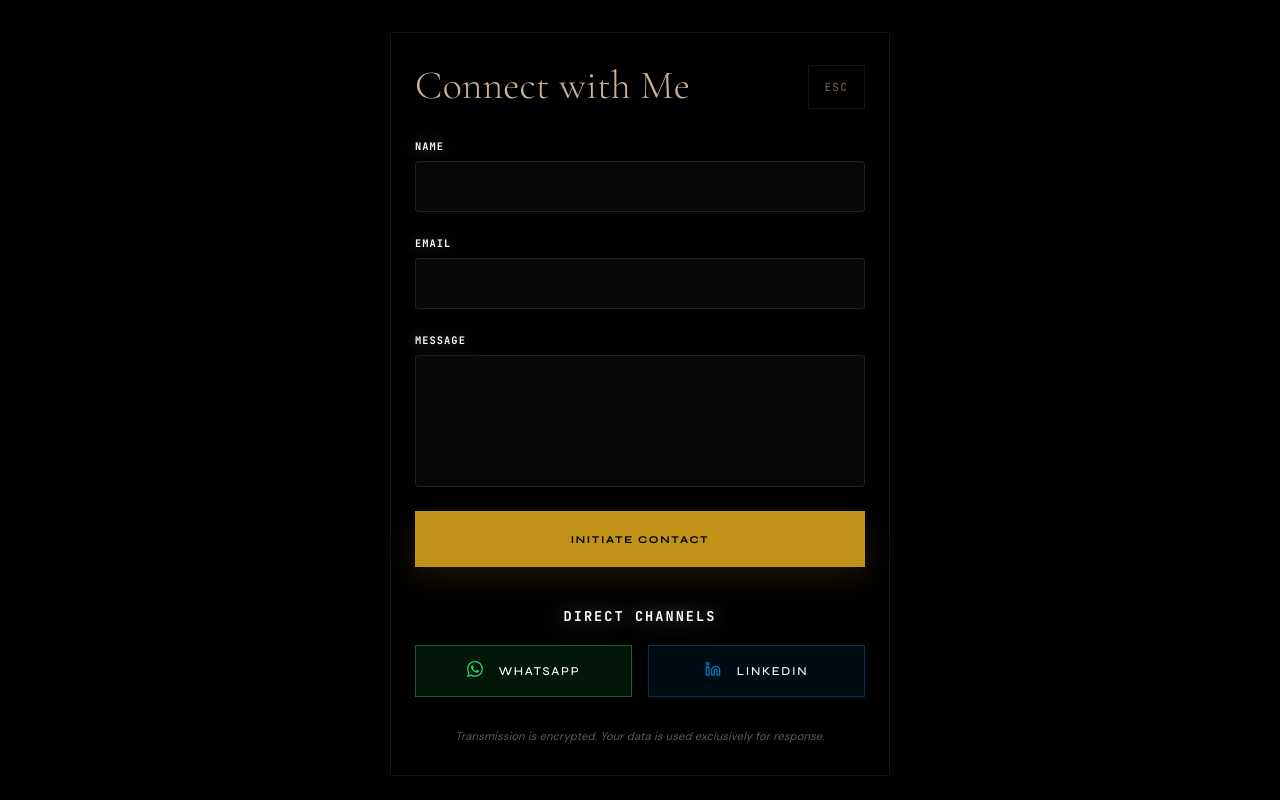
Scenario: ContactHUD Component › validates empty submissions via Zod schema
This screenshot has width=1280, height=800.
Type "A" into the field labelled "NAME" at (640, 186), box [415,161,865,212]
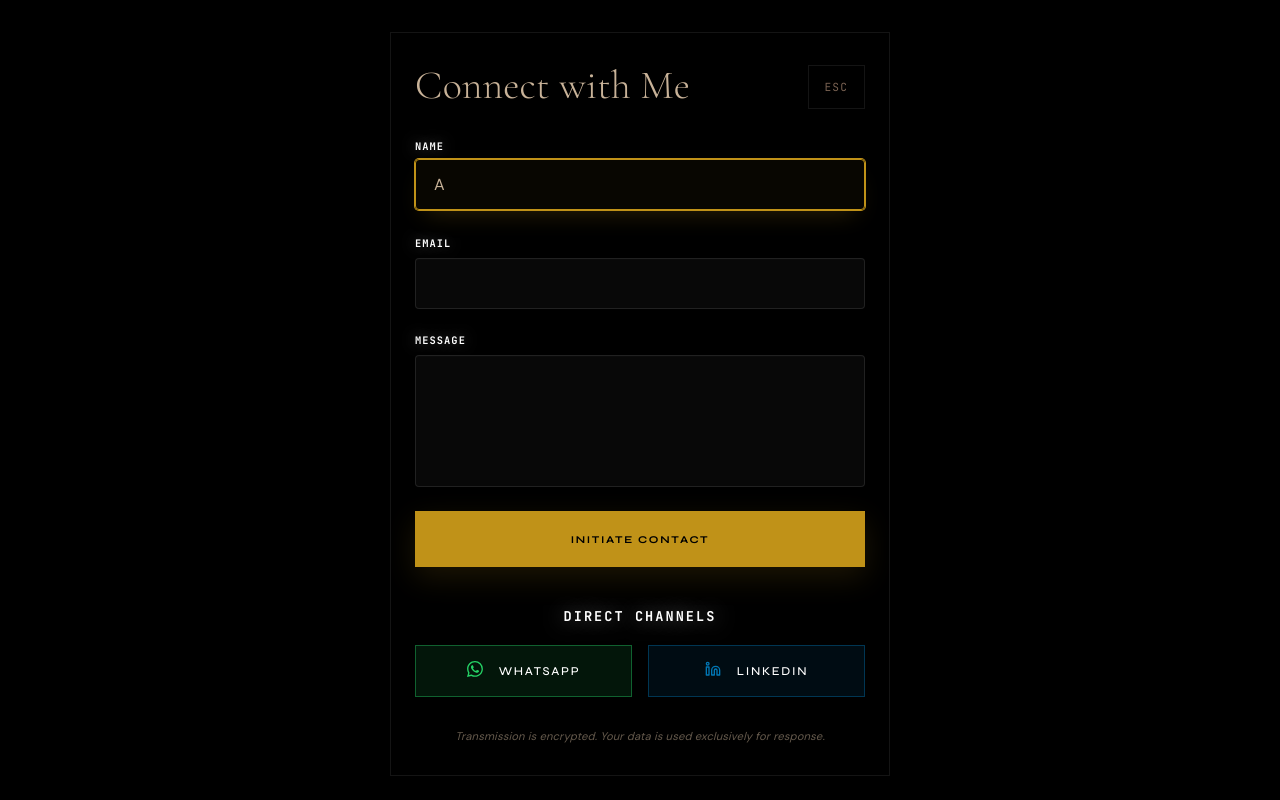
Type "invalid" into the field labelled "EMAIL" at (640, 284), box [415,258,865,309]
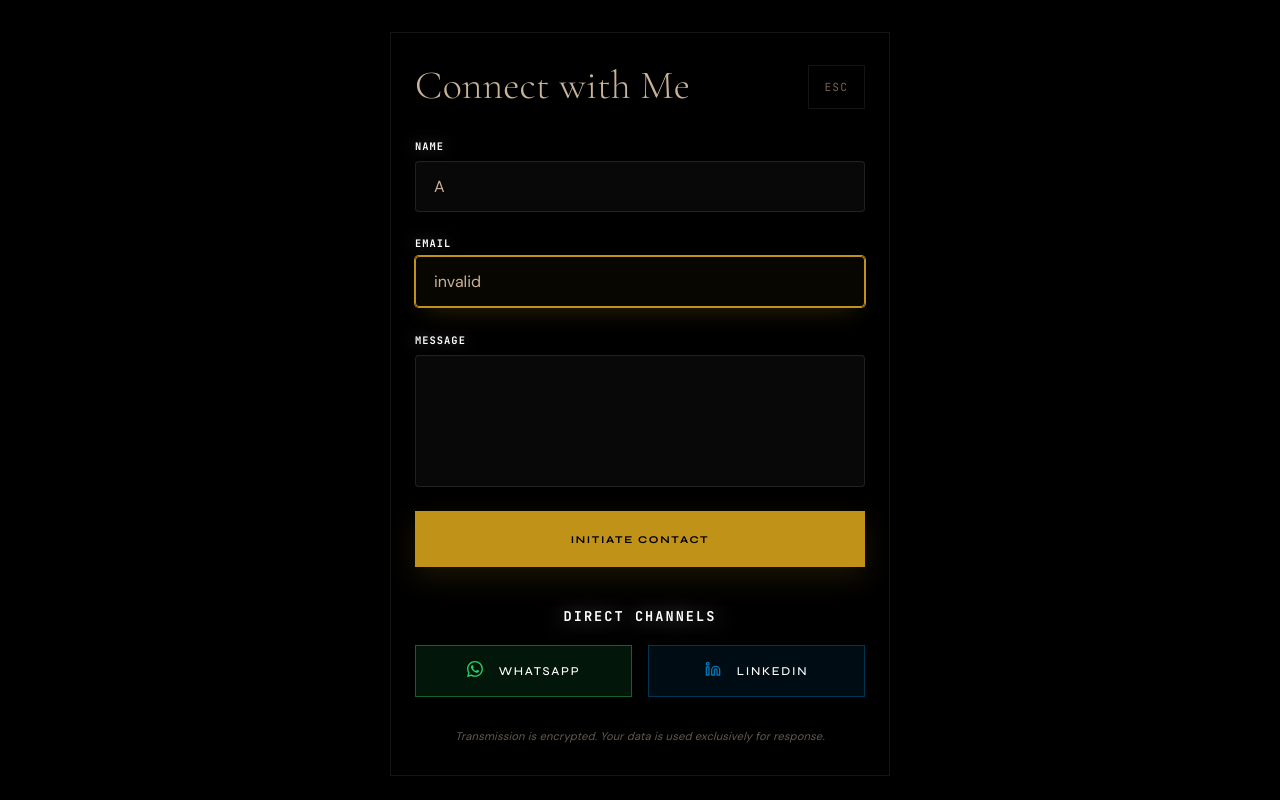
Type "short" into the text box labelled "MESSAGE" at (640, 421), box [415,355,865,487]
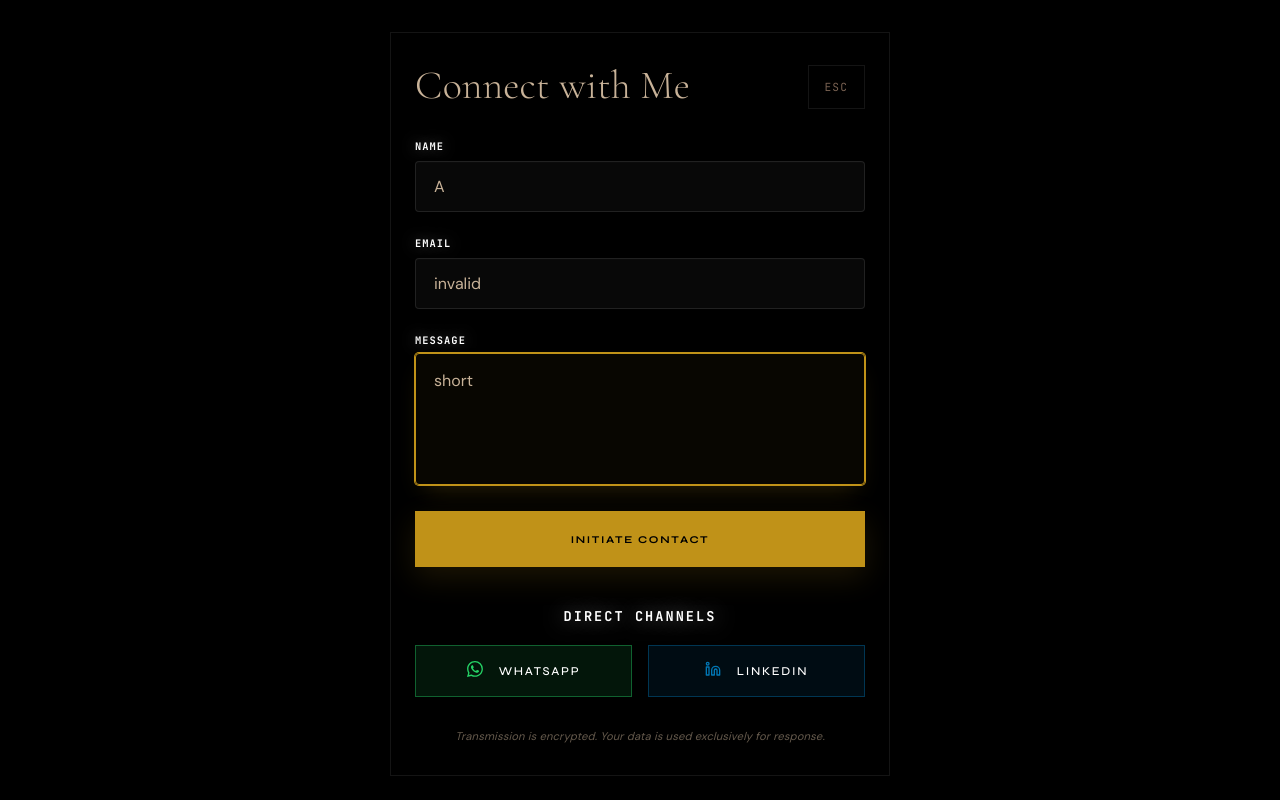
Use fireEvent.submit directly on the form to bypass native HTML5 validation
Submit the form labelled "NAME EMAIL MESSAGE INITIATE CONTACT", box [415,139,865,567]
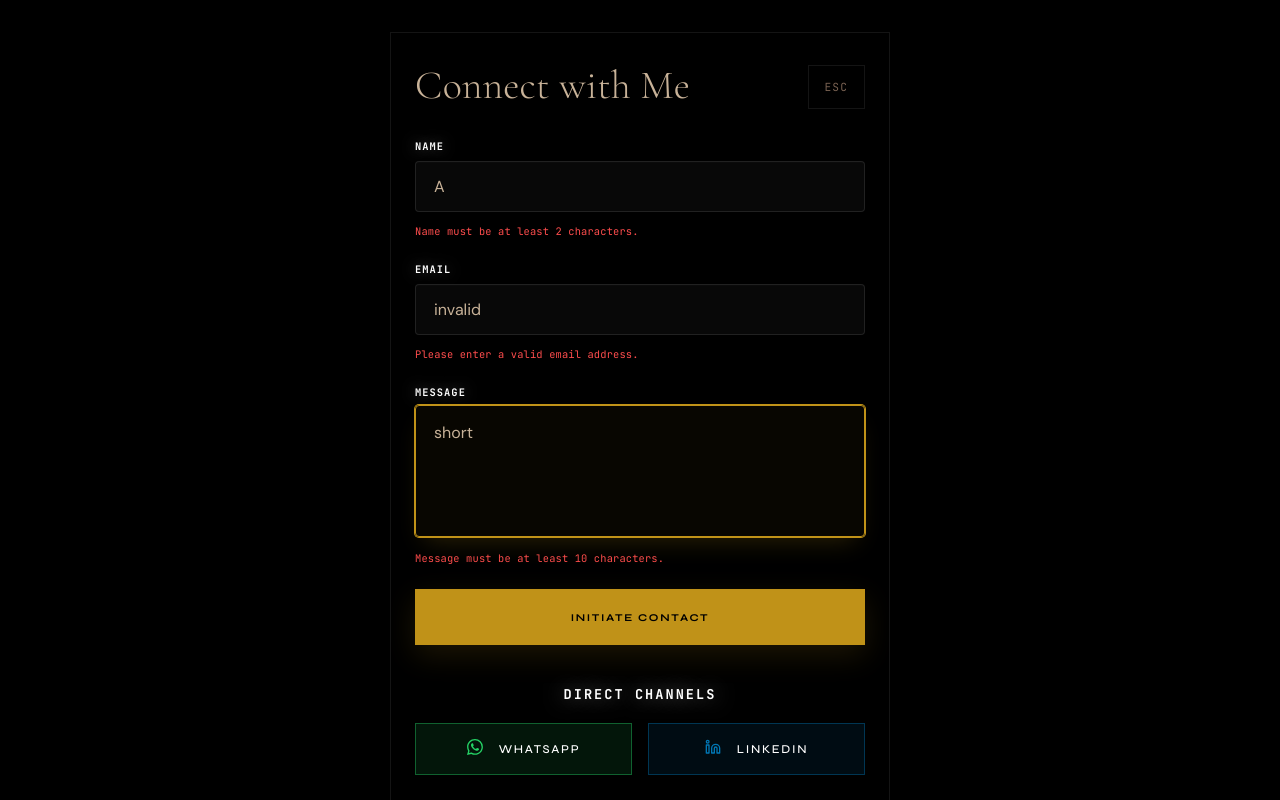
Result: the text "Name must be at least 2 characters." is shown at [415,224,639,238]
Result: the text "Please enter a valid email address." is shown at [415,347,639,361]
Result: the text "Message must be at least 10 characters." is shown at [415,551,664,565]
